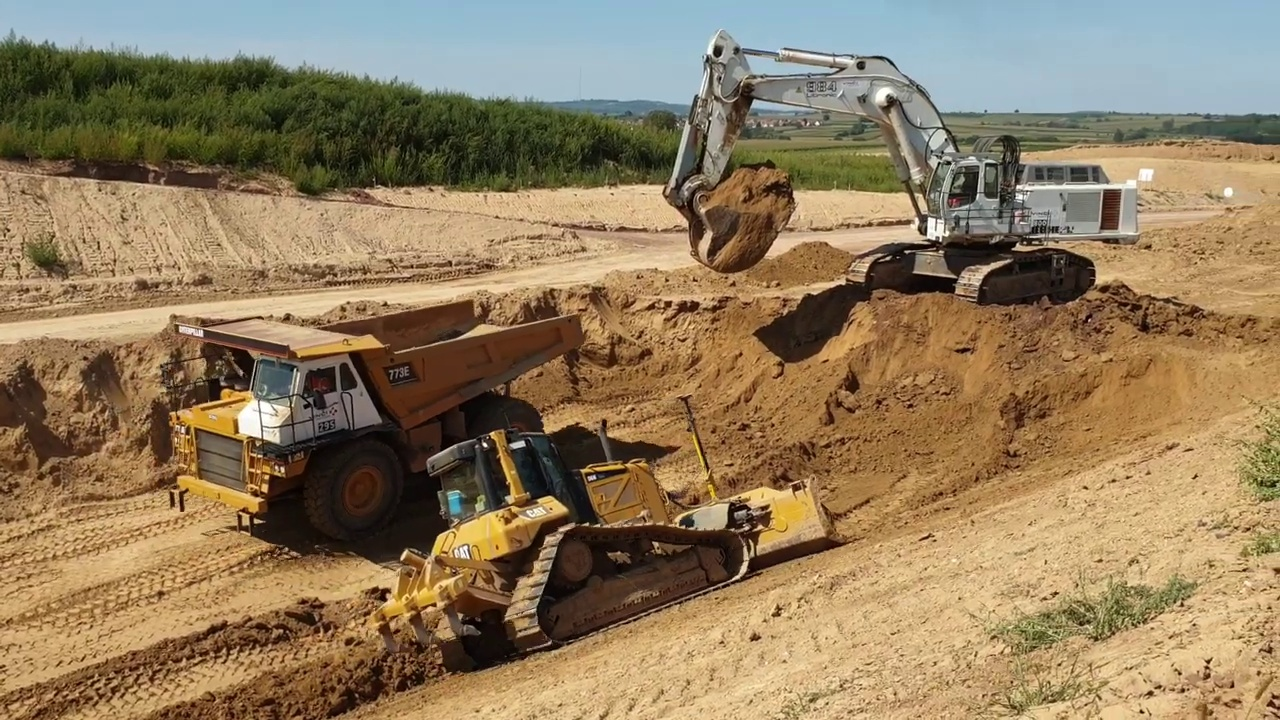bulldozer: (370, 390, 849, 664)
excavator: (659, 27, 1146, 314)
truck: (147, 296, 590, 548)
